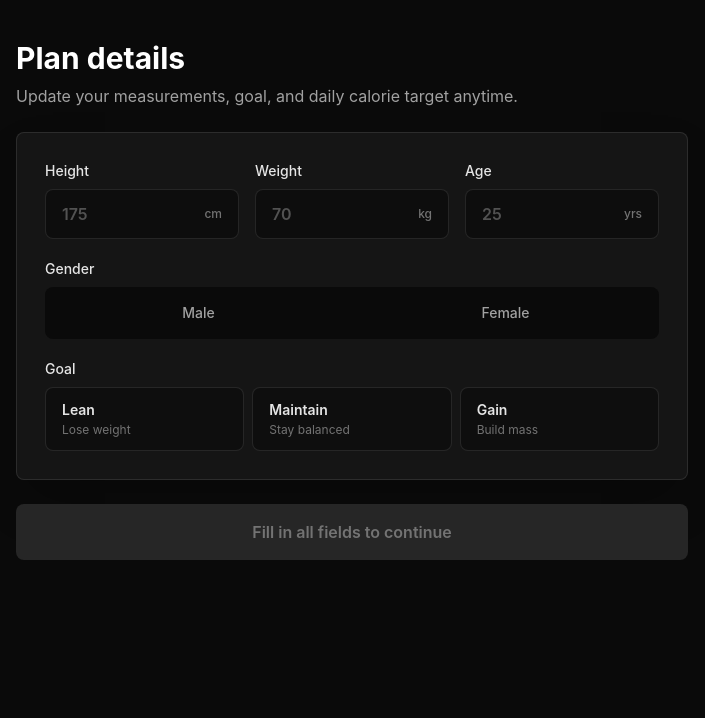
BMIPage › shows calories after age and gender are available
Type "180" into the number field labelled "Height cm".
click(129, 214); type("180")  # box [62, 202, 196, 226]
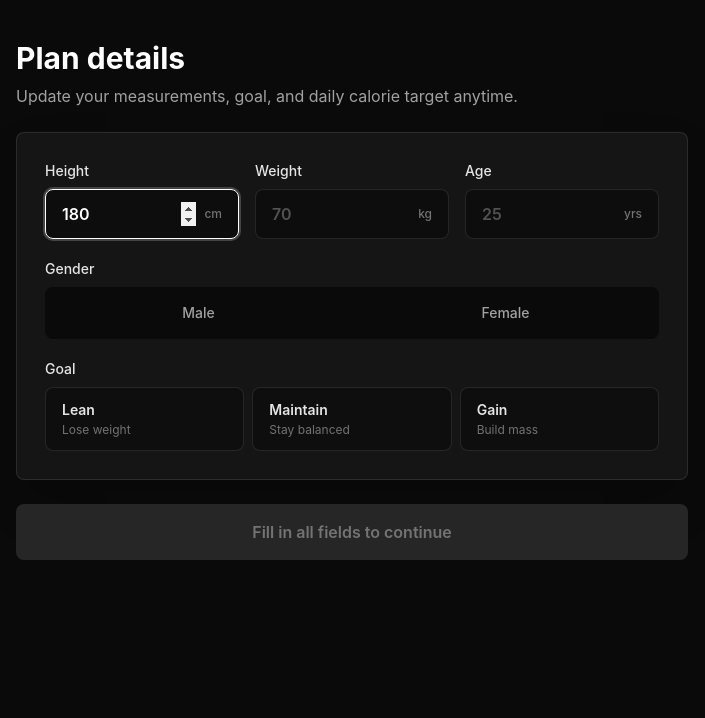
Type "80" into the number field labelled "Weight kg".
click(341, 214); type("80")  # box [272, 202, 410, 226]
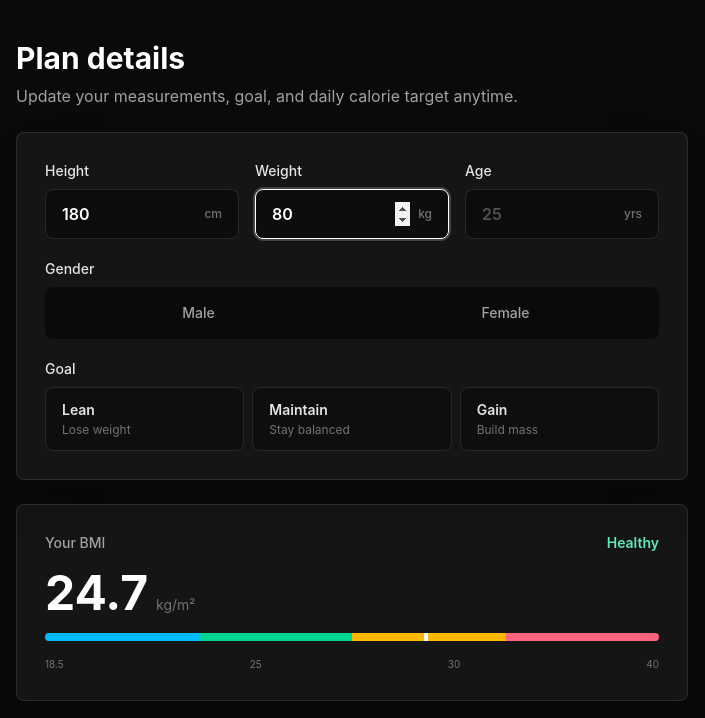
Expected: the text "kcal" is not shown
Type "30" into the number field labelled "Age yrs".
click(549, 214); type("30")  # box [482, 202, 616, 226]
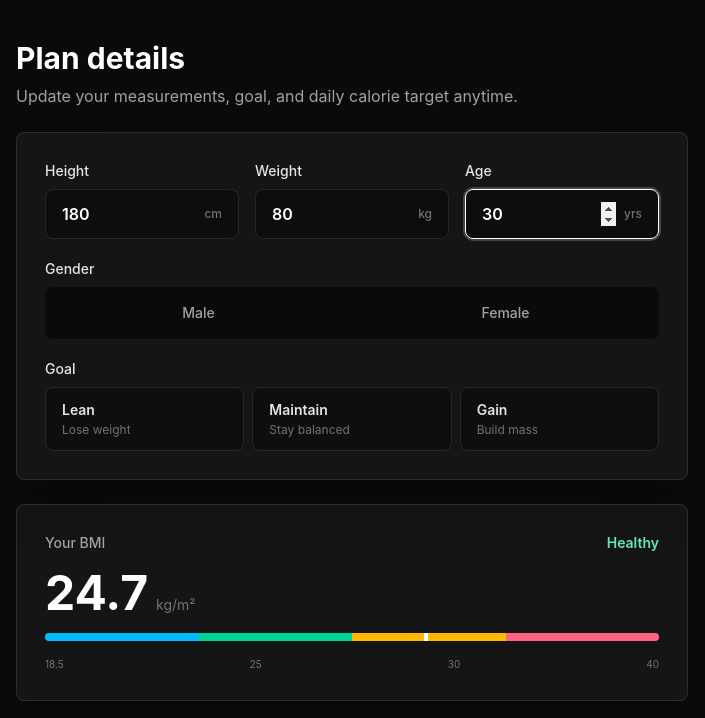
Click the button "Male".
click(198, 313)  # box [49, 291, 348, 335]
(page scrolled)
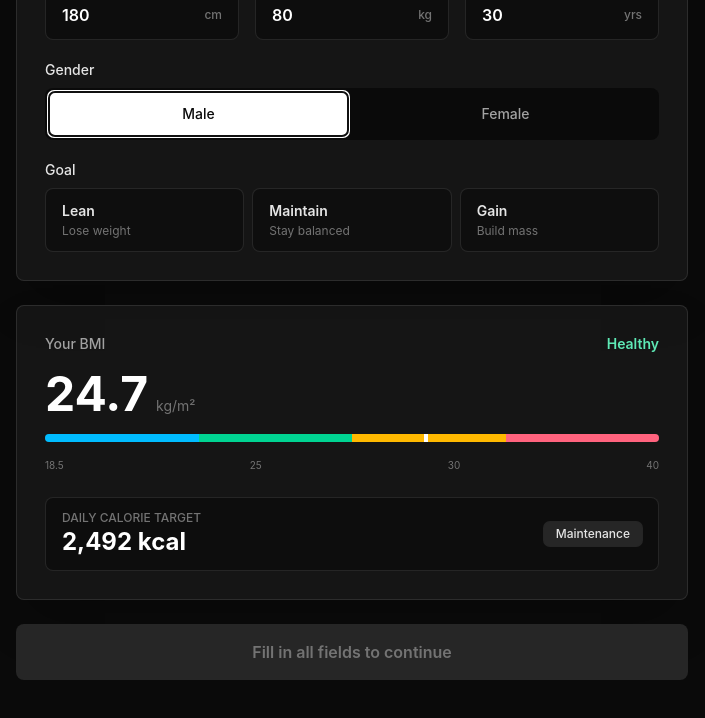
Now the text "2,492 kcal" is shown, box [62, 526, 201, 558]
